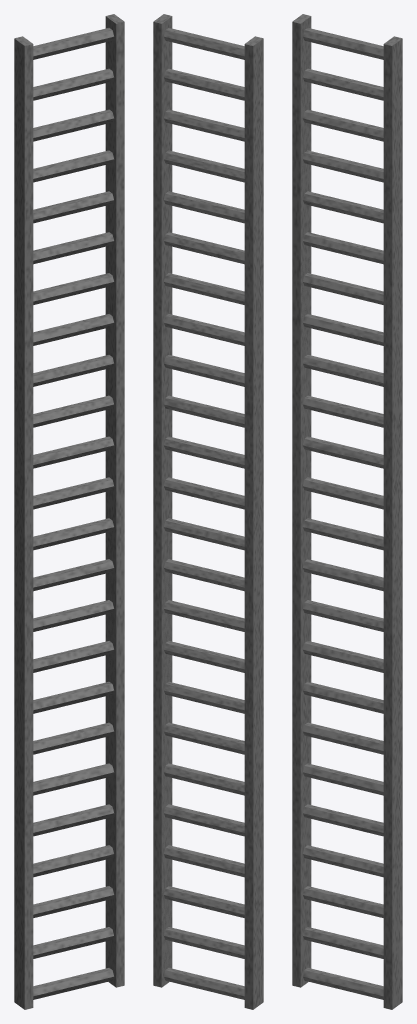
Rendered from leiter.fbx.
3 renders of one model, left to right at view 1: azimuth 30°, elevation 25°; view 2: azimuth 150°, elevation 25°; view 3: azimuth 330°, elevation 25°, orthographic.
Parts seen in each view (by area): view 1: Cube; view 2: Cube; view 3: Cube.
Part boxes in pixels (bbox=[...]): Cube: bbox=[14, 14, 124, 1009]; Cube: bbox=[153, 14, 263, 1009]; Cube: bbox=[292, 14, 402, 1009].
Bounding box in the file's own units: 193 × 1782 × 35.56.
Materials: 1 (1 with a texture image).
